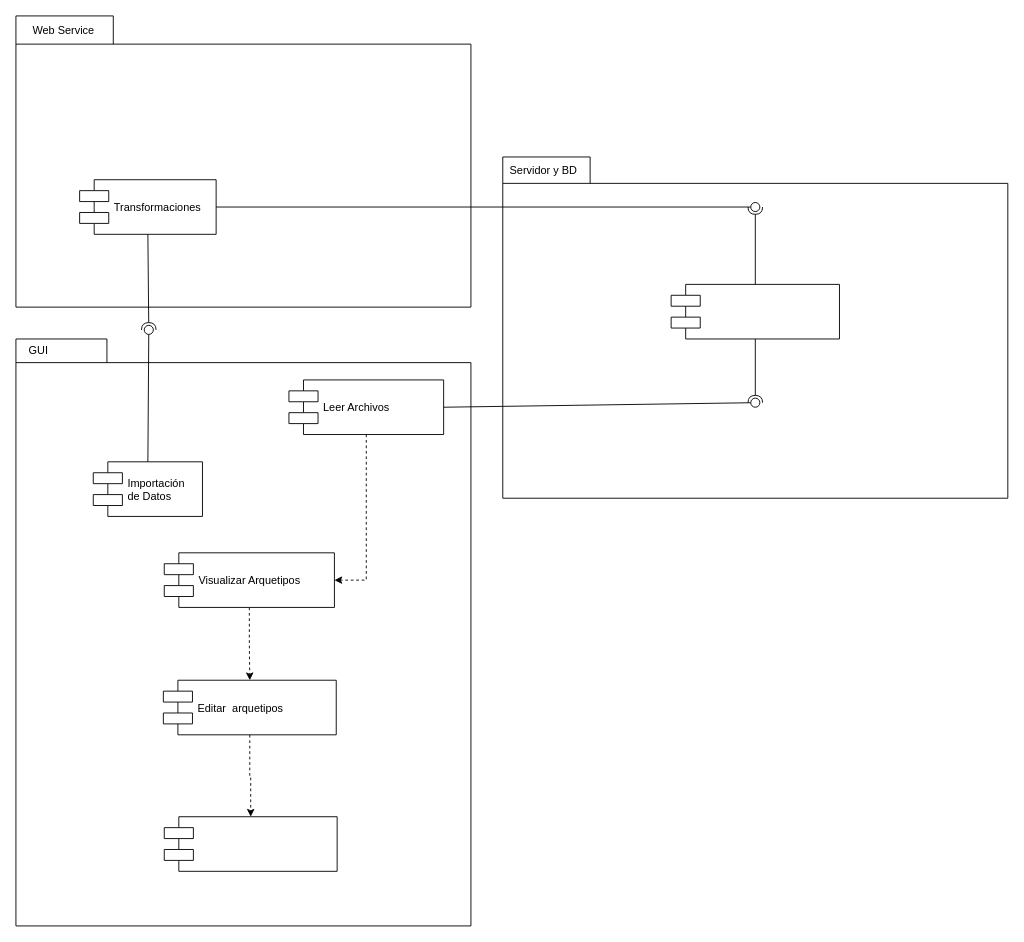
Some shapes in this 1024 by 942 pixel diagram are drawn without their labels. Each missing label, with the box of its shape:
Guardar Archivos en la Base de Datos: (670, 283, 839, 339)
Guardar arquetipos: (163, 816, 337, 871)
